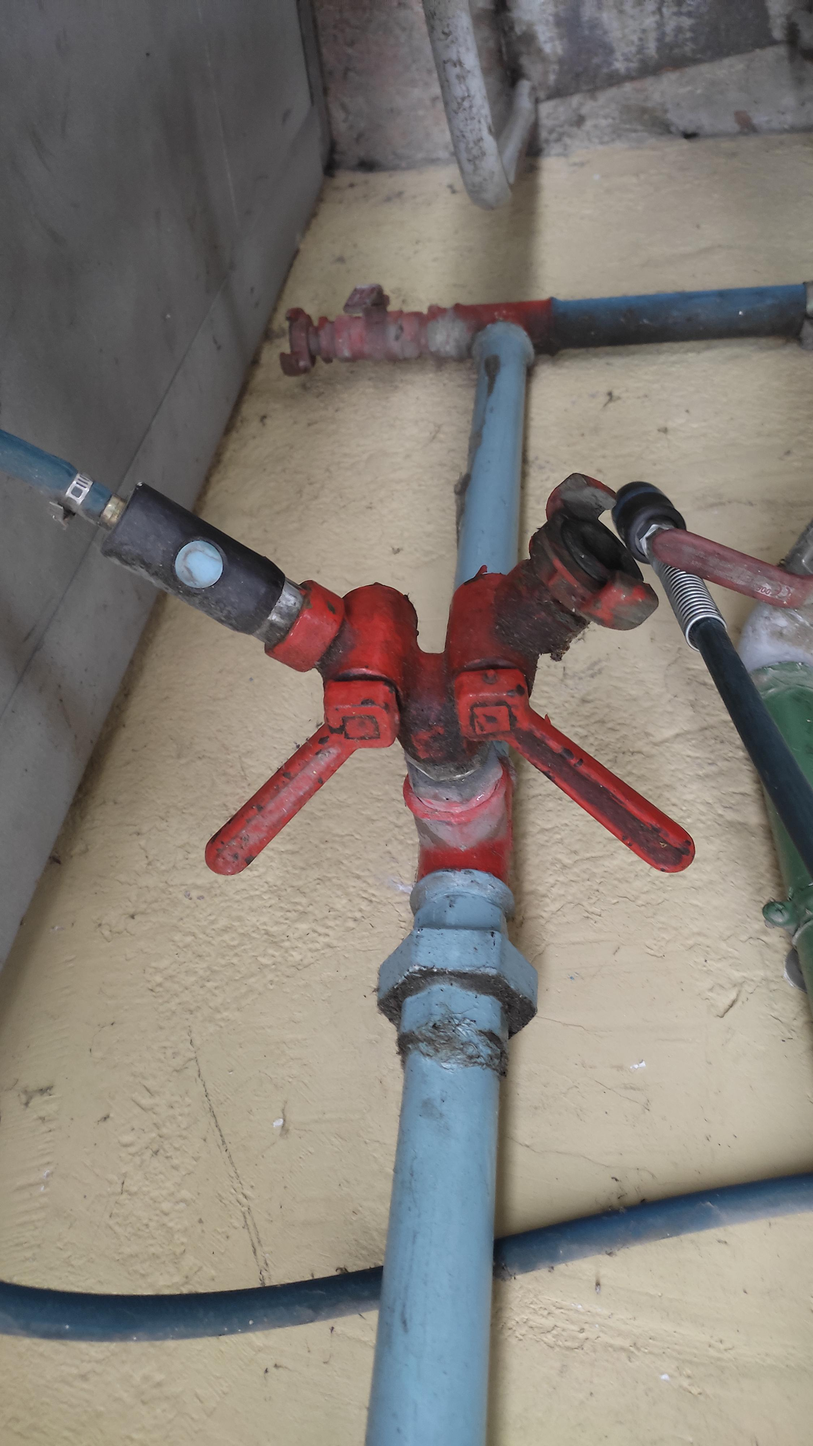closed valve: (404, 540, 778, 910), (106, 556, 448, 910)
